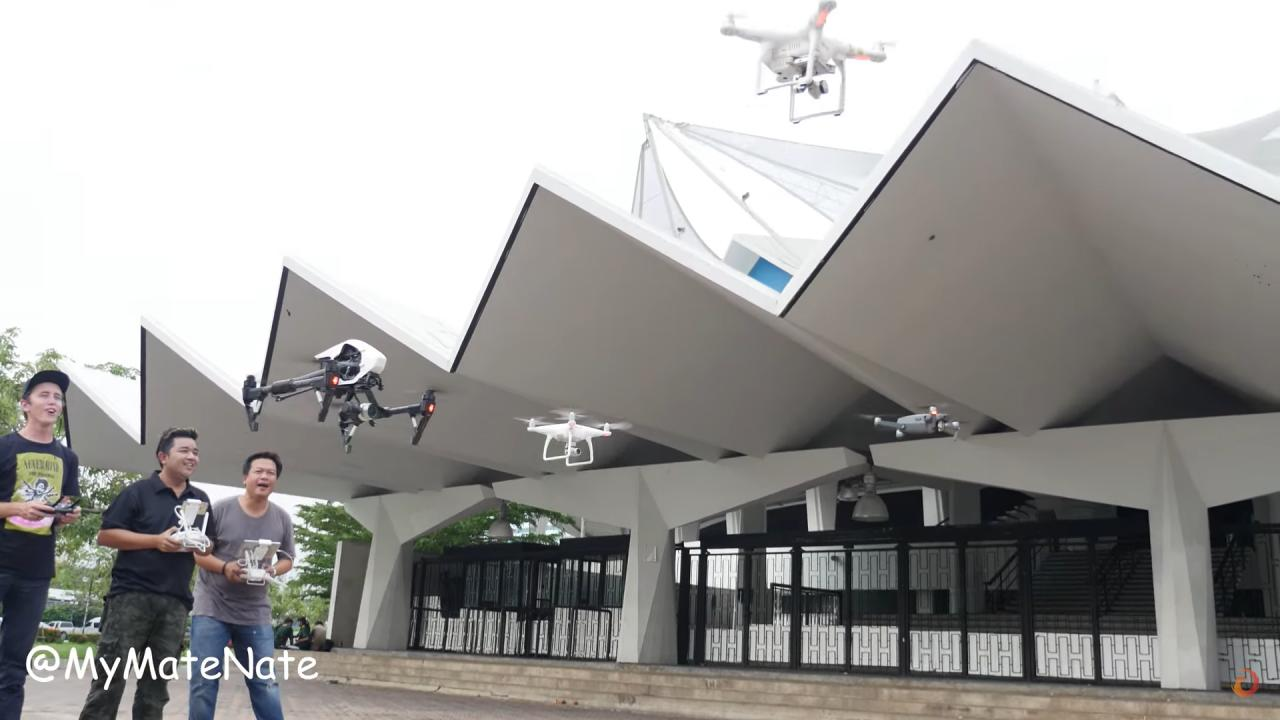Drone: (233, 329, 459, 463), (708, 0, 908, 135), (506, 402, 640, 472), (846, 395, 980, 449)
